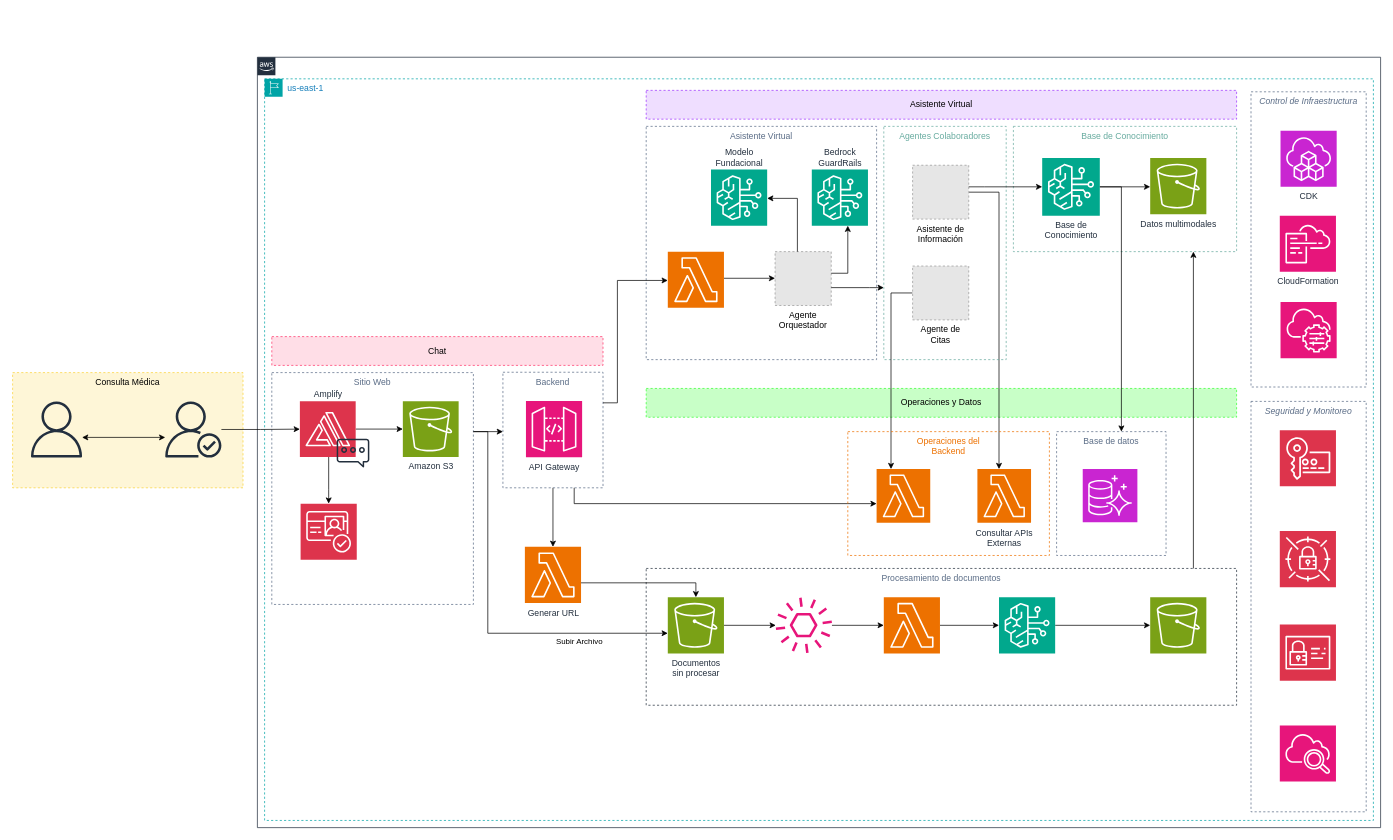
Image size: 1393x840. Some labels were removed from this diagram. Grey dashed boxes stand in for pictures. The shapes that lost their labels are listed below. From the top down, each one's centre as x and y in pixels, then its label:
At (695,279): "Conversar con Chat".
At (1308,329): "SSM Parameter Store".
At (56,429): "Pacientes".
At (193,429): "Médicos".
At (1307,457): "Key Management Service".
At (903,495): "Operaciones de Citas".
At (1109,495): "Aurora PostgreSQL + pgvector".
At (328,531): "Amazon Cognito".
At (1307,558): "Secrets Manager".
At (803,625): "Objeto Creado".
At (911,625): "Iniciar Análisis".
At (1026,625): "Bedrock Data Automation".
At (1177,625): "Documentos procesados".
At (1307,652): "Identity and Access Management".
At (1307,753): "Cloudwatch".
